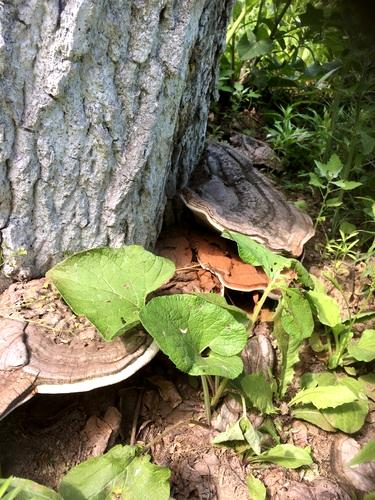Ganoderma - Fruit Body: (0, 255, 166, 401), (184, 120, 320, 265), (206, 267, 292, 292)
